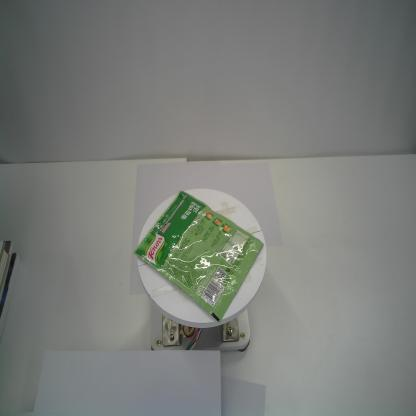Seasoner: (132, 190, 264, 324)
